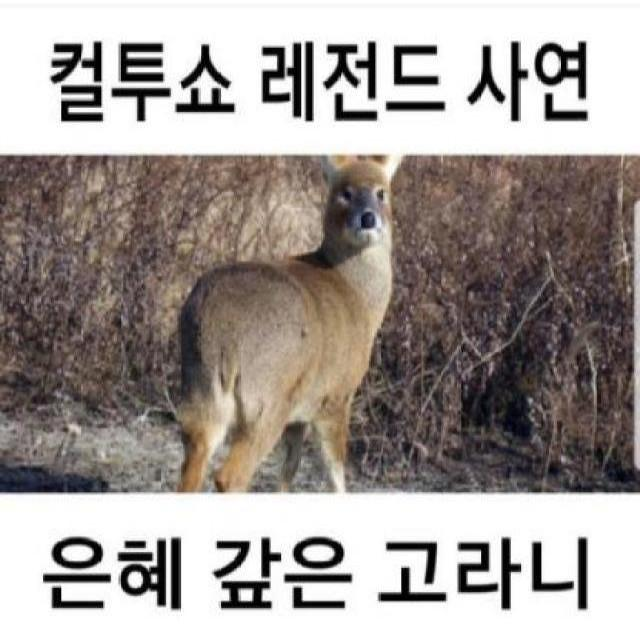deer: (167, 153, 407, 496)
